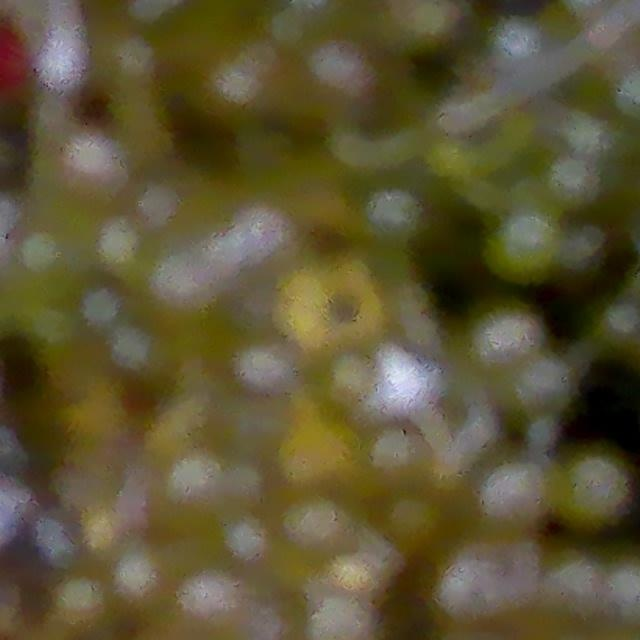SeaGrape: (155, 448, 240, 536), (435, 551, 519, 628), (465, 460, 549, 534), (172, 569, 252, 640), (482, 213, 566, 279), (556, 458, 633, 527), (111, 543, 178, 615), (380, 489, 448, 557)
